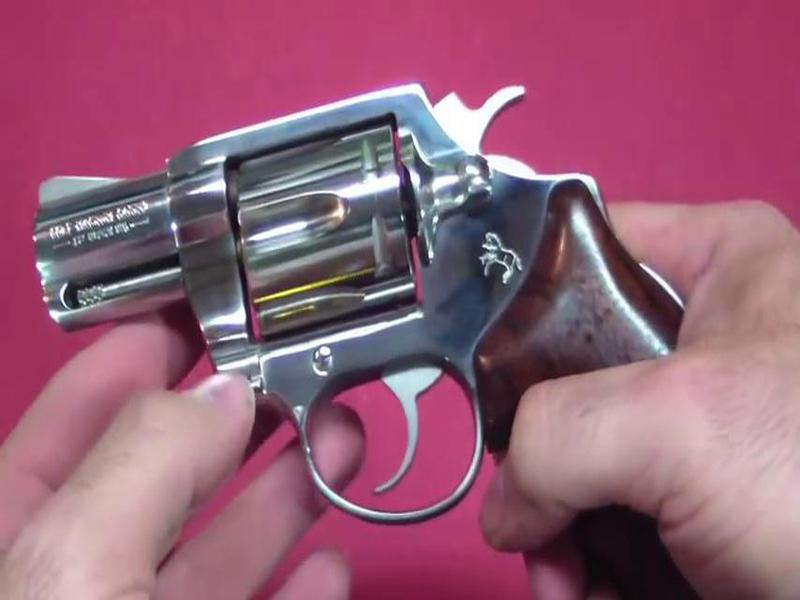Revolver: (39, 99, 745, 527)
